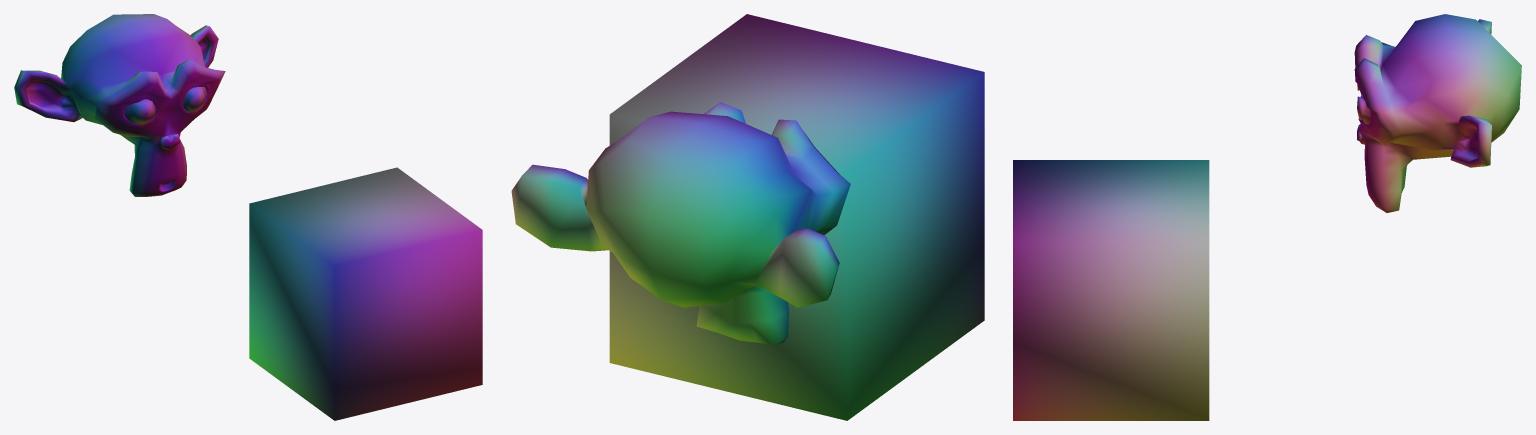
3 views of the same model, side by side, from view 1: azimuth 30°, elevation 25°; view 2: azimuth 150°, elevation 25°; view 3: azimuth 270°, elevation 25° (orthographic). The views are drawn at different scales.
Parts seen in each view (by area): view 1: Cube, Suzanne; view 2: Cube, Suzanne; view 3: Cube, Suzanne.
Part boxes in pixels (x1=…): Cube: x1=249, y1=167, x2=482, y2=420; Suzanne: x1=14, y1=14, x2=225, y2=196; Cube: x1=609, y1=14, x2=984, y2=420; Suzanne: x1=511, y1=102, x2=850, y2=345; Cube: x1=1013, y1=160, x2=1209, y2=420; Suzanne: x1=1354, y1=14, x2=1521, y2=212.
Bounding box in the file's own units: 3.54 × 3.4 × 5.18.
